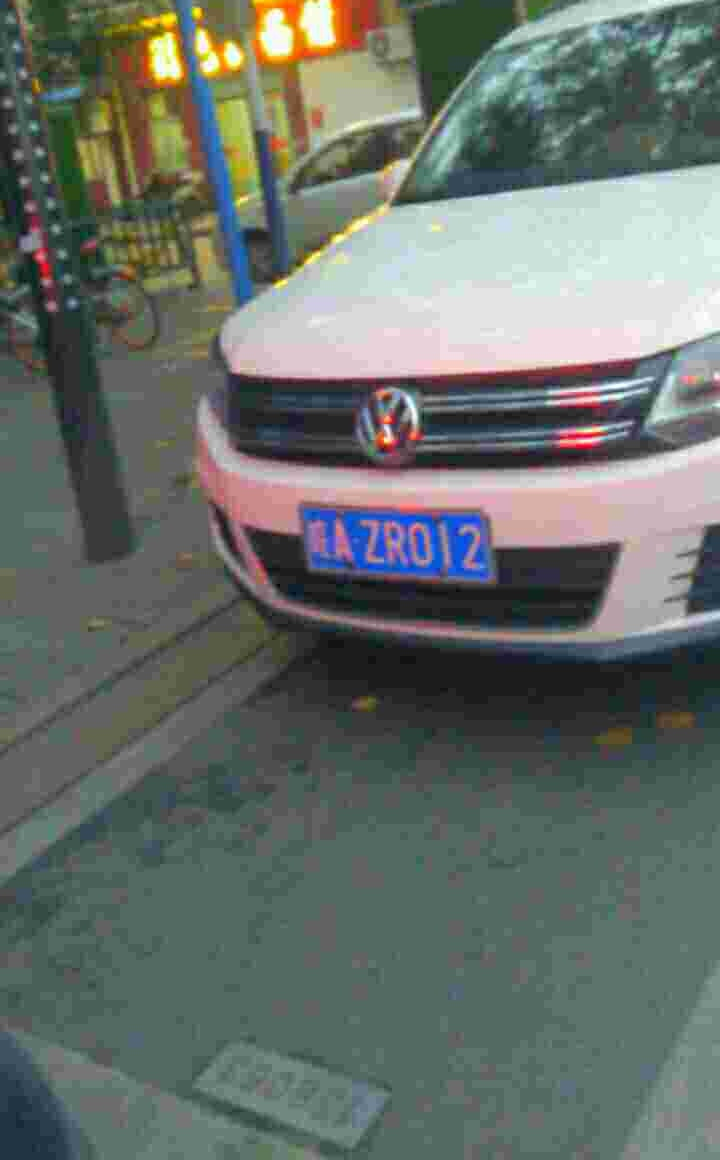license_plate: (310, 505, 497, 585)
